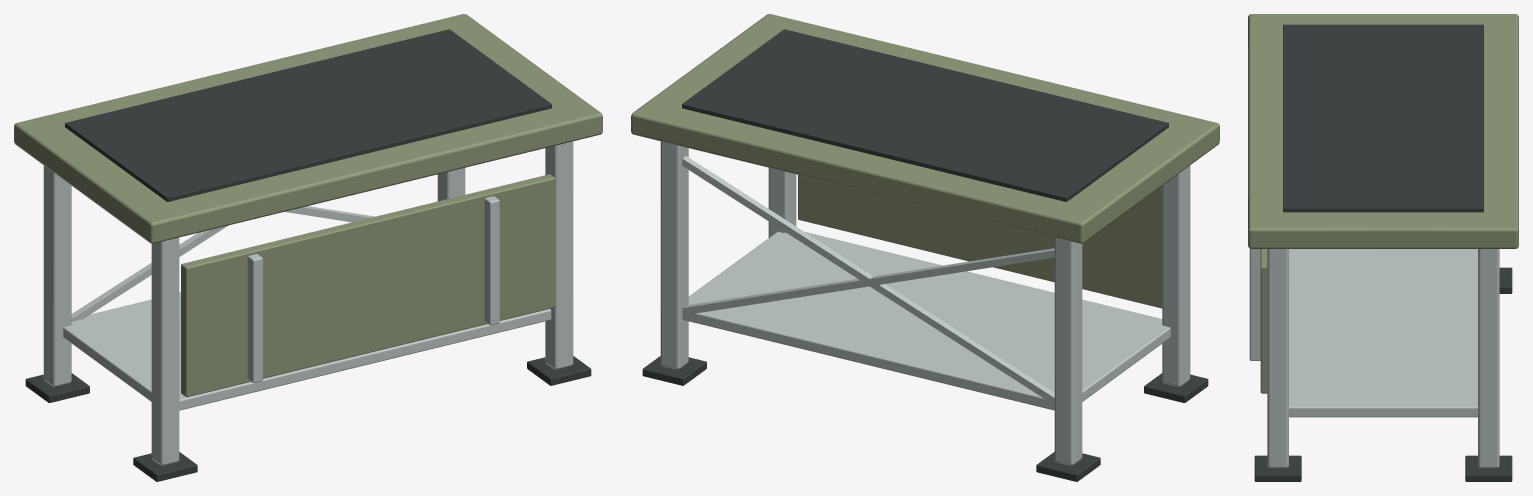
File: mountain-border-checkpoint-mountain-border-checkpoint--0a1683ab__30300.glb
3 renders of one model, left to right at view 1: azimuth 30°, elevation 25°; view 2: azimuth 150°, elevation 25°; view 3: azimuth 270°, elevation 25°, orthographic. The views are drawn at different scales.
Visible parts, largest first — view 1: mountain-border-checkpoint-interview-desk; view 2: mountain-border-checkpoint-interview-desk; view 3: mountain-border-checkpoint-interview-desk.
Boxes of the visible parts, bbox=[...] form: mountain-border-checkpoint-interview-desk: bbox=[14, 14, 602, 481]; mountain-border-checkpoint-interview-desk: bbox=[631, 14, 1219, 481]; mountain-border-checkpoint-interview-desk: bbox=[1248, 14, 1518, 481].
Bounding box in the file's own units: 1.53 × 0.865 × 0.8099.
